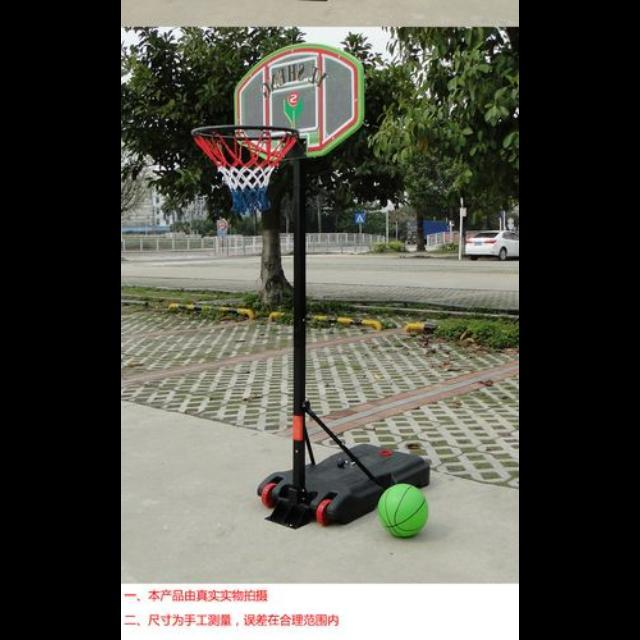basketball: (378, 484, 428, 536)
rim: (192, 125, 296, 212)
